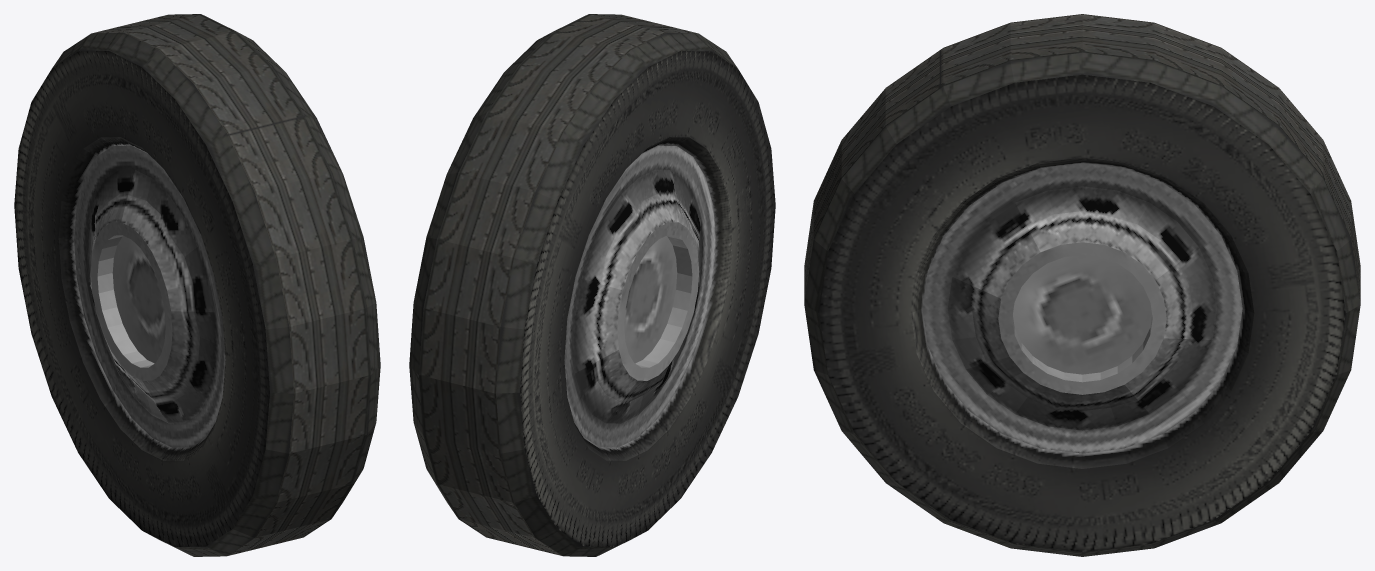
Rendered from vaz-2101_wheel.fbx.
3 views of the same model, side by side, from view 1: azimuth 30°, elevation 25°; view 2: azimuth 150°, elevation 25°; view 3: azimuth 270°, elevation 25° (orthographic). The views are drawn at different scales.
Parts seen in each view (by area): view 1: wheel_fl; view 2: wheel_fl; view 3: wheel_fl.
Boxes of the visible parts, x1,y1,x2,y2 form: wheel_fl: [14, 14, 380, 556]; wheel_fl: [409, 14, 775, 556]; wheel_fl: [804, 14, 1360, 556].
Bounding box in the file's own units: 44.78 × 44.78 × 12.6.
Materials: 1 (1 with a texture image).
